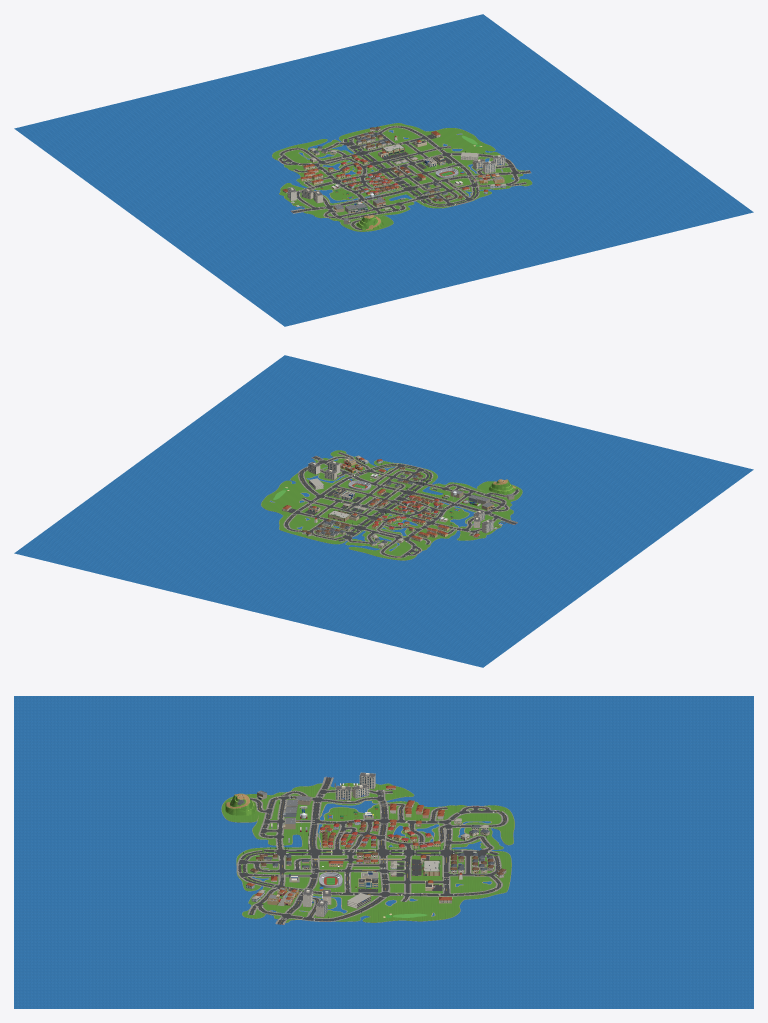
The picture shows the model from 3 angles, top to bottom: view 1: azimuth 30°, elevation 25°; view 2: azimuth 150°, elevation 25°; view 3: azimuth 270°, elevation 25°; orthographic projection. The views are drawn at different scales.
Parts seen in each view (by area): view 1: ground; view 2: ground; view 3: ground, trash_mountain.
Boxes of the visible parts, x1,y1,x2,y2 form: ground: [14, 14, 753, 326]; ground: [14, 355, 753, 667]; ground: [14, 696, 753, 1008]; trash_mountain: [225, 793, 256, 815].
Bounding box in the file's own units: 1280 × 30.62 × 1280.
82 materials, 44 textured.
